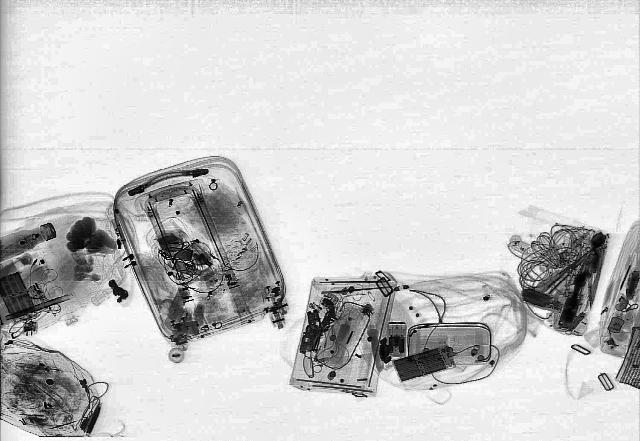Pliers: (540, 248, 596, 296)
